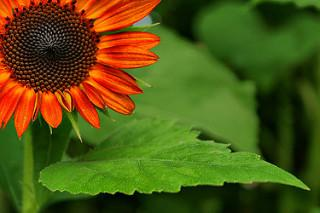sunflower: (0, 0, 160, 134)
